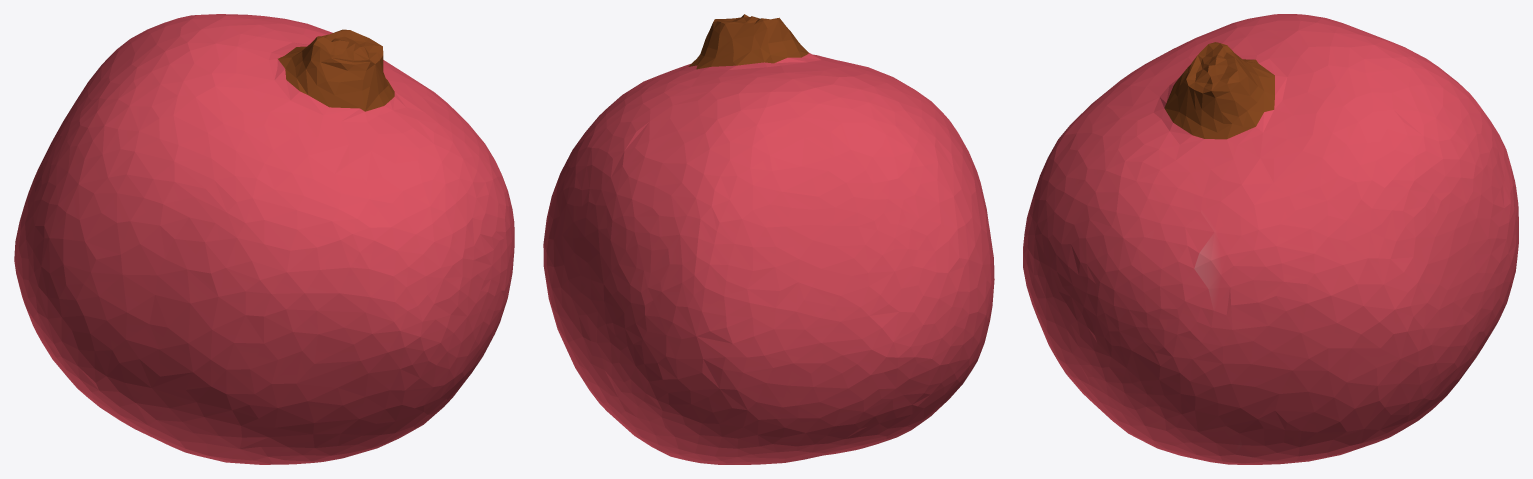
File: melograno.fbx
The picture shows the model from 3 angles, left to right: view 1: azimuth 30°, elevation 25°; view 2: azimuth 150°, elevation 25°; view 3: azimuth 270°, elevation 25°; orthographic projection. The views are drawn at different scales.
Visible parts, largest first — view 1: Melograno; view 2: Melograno; view 3: Melograno.
Boxes of the visible parts, box(x1,y1,x2,y2) form: Melograno: box(14, 14, 514, 464); Melograno: box(543, 14, 994, 464); Melograno: box(1023, 14, 1518, 464).
Size of the model in its own units: 16.29 by 15.48 by 16.89.
